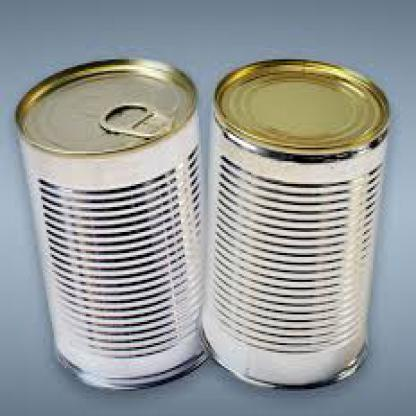METAL: (13, 56, 209, 389), (194, 56, 389, 389)
